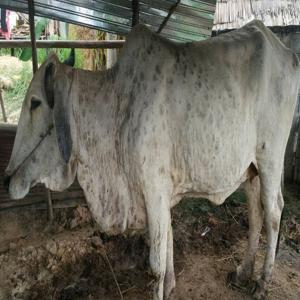lumpy skin diesease: (2, 18, 299, 299)
